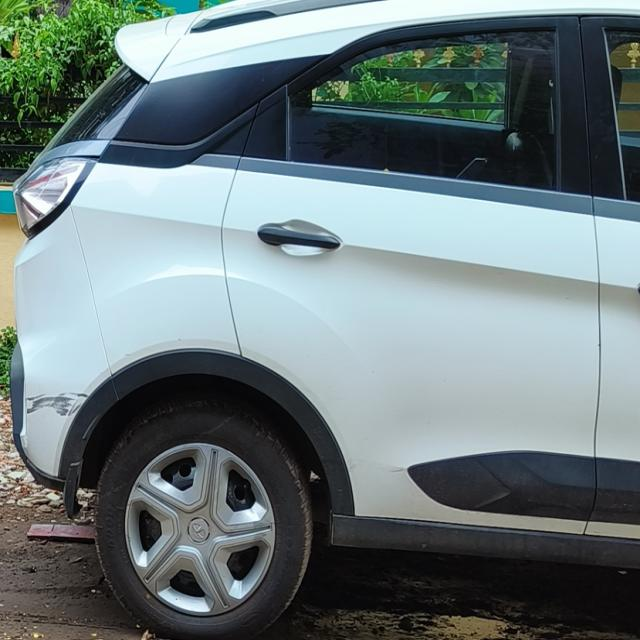scratch: (14, 386, 89, 426)
